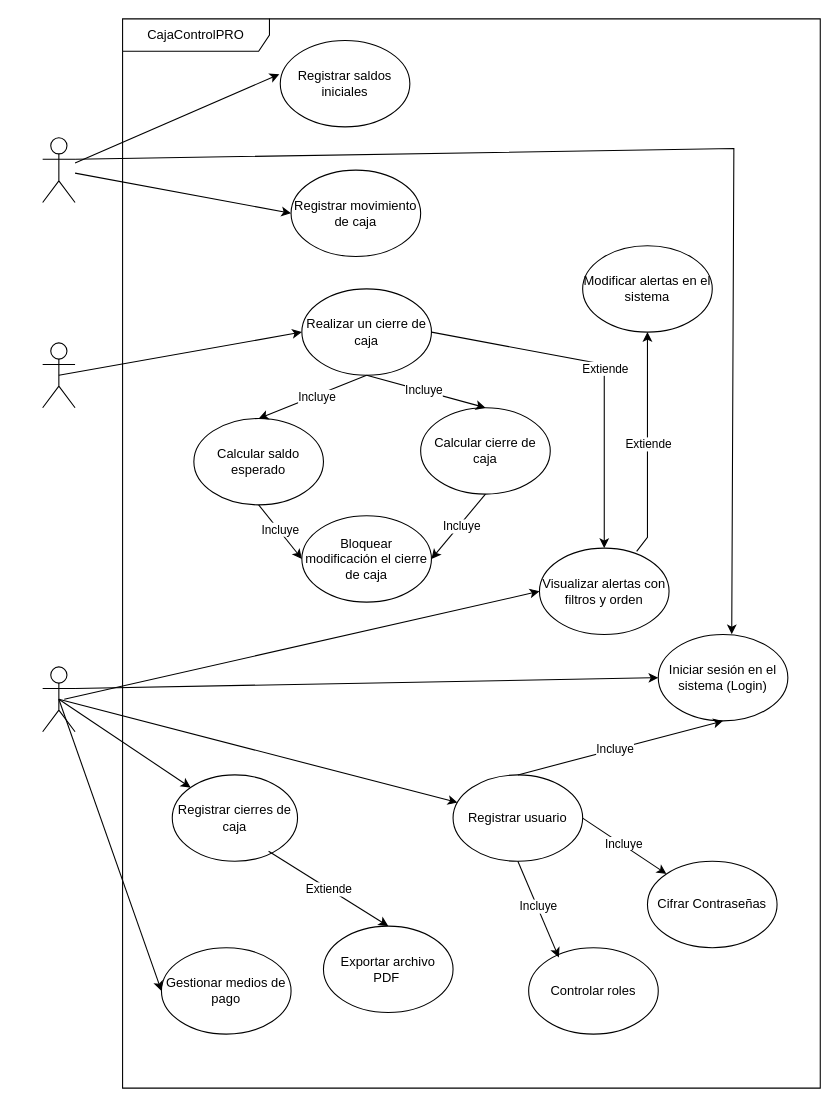
Some shapes in this 839 by 1107 pixel diagram are drawn without their labels. The box of each missing label's shape, as (x1, y1, x2, y2) in pixels:
Administrador: (42, 666, 75, 732)
Cajero: (42, 137, 75, 202)
Operador: (42, 342, 75, 408)
